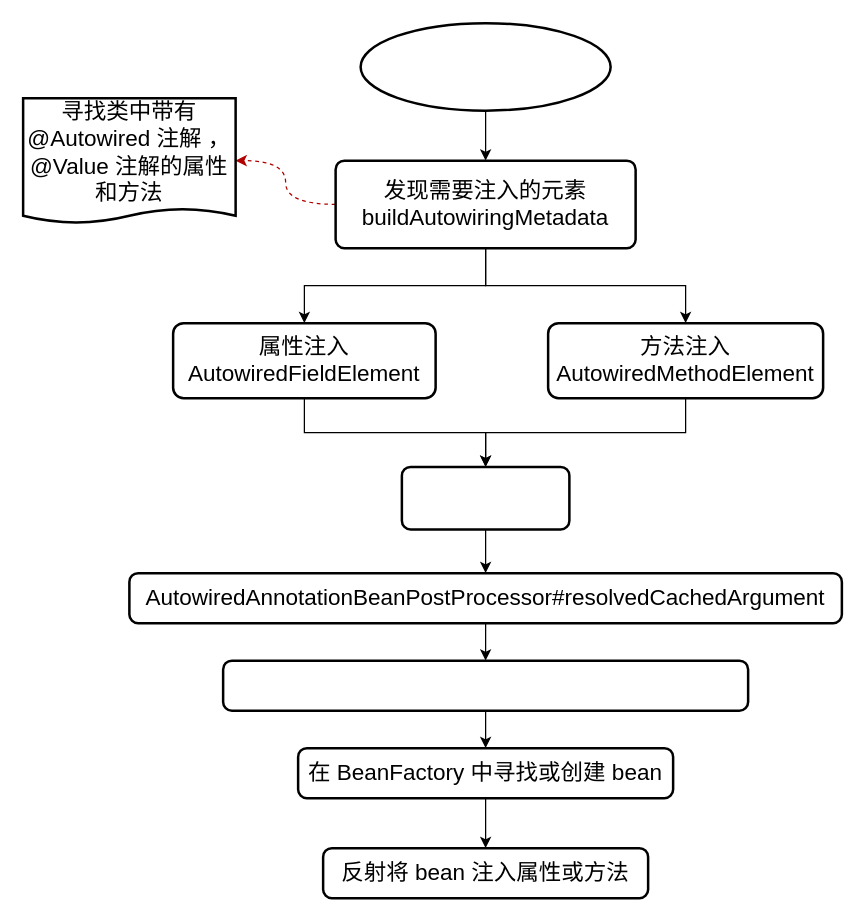
Some shapes in this 864 by 920 pixel diagram are drawn without their labels. The centre of each missing label's shape, as x and y in pixels:
@Autowired 依赖注入: (x=485, y=66)
AutowireCapableBeanFactory#resolveDependency: (x=485, y=685)
inject: (x=485, y=497)
